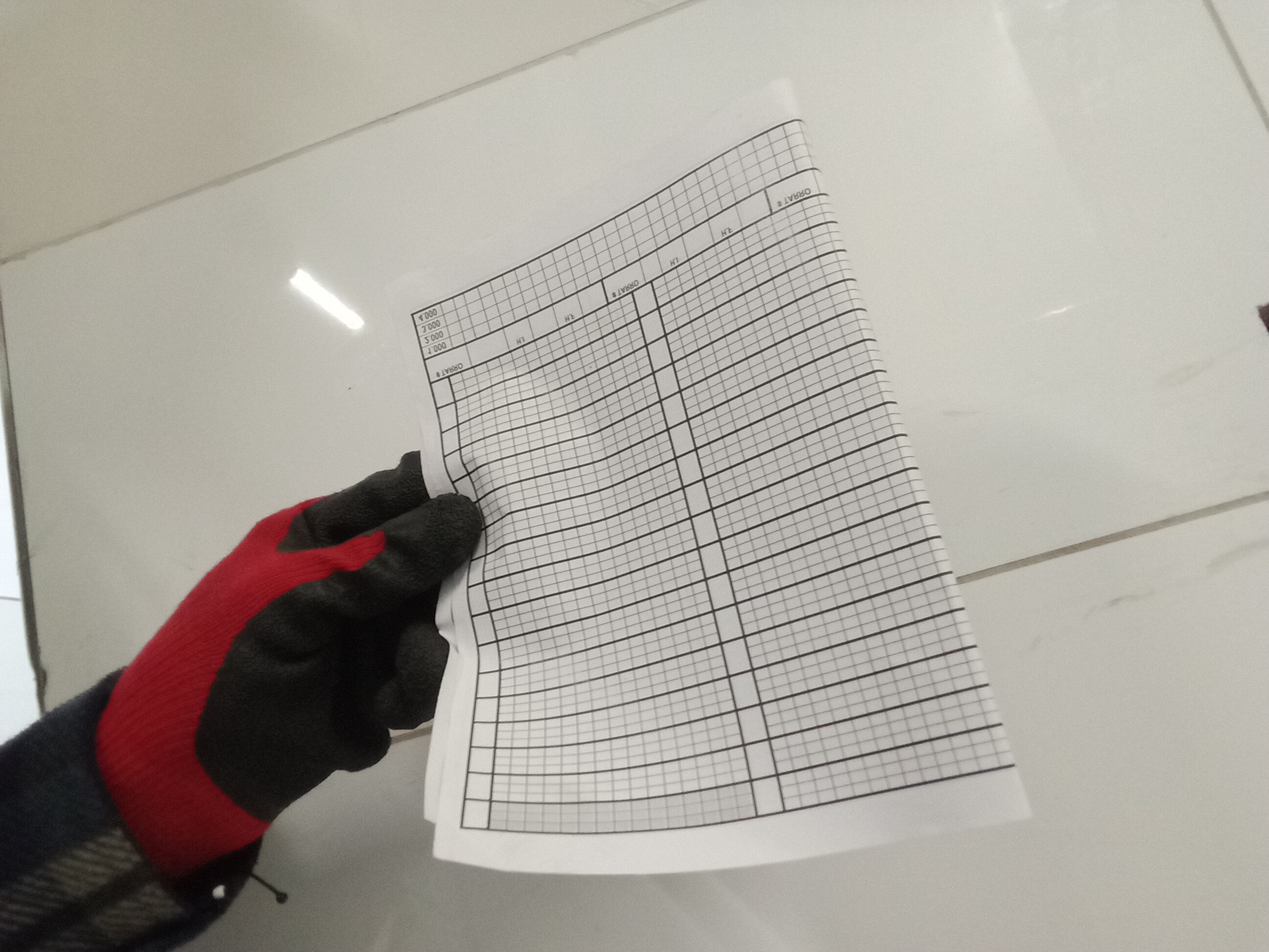Papel: (382, 76, 1033, 879)
